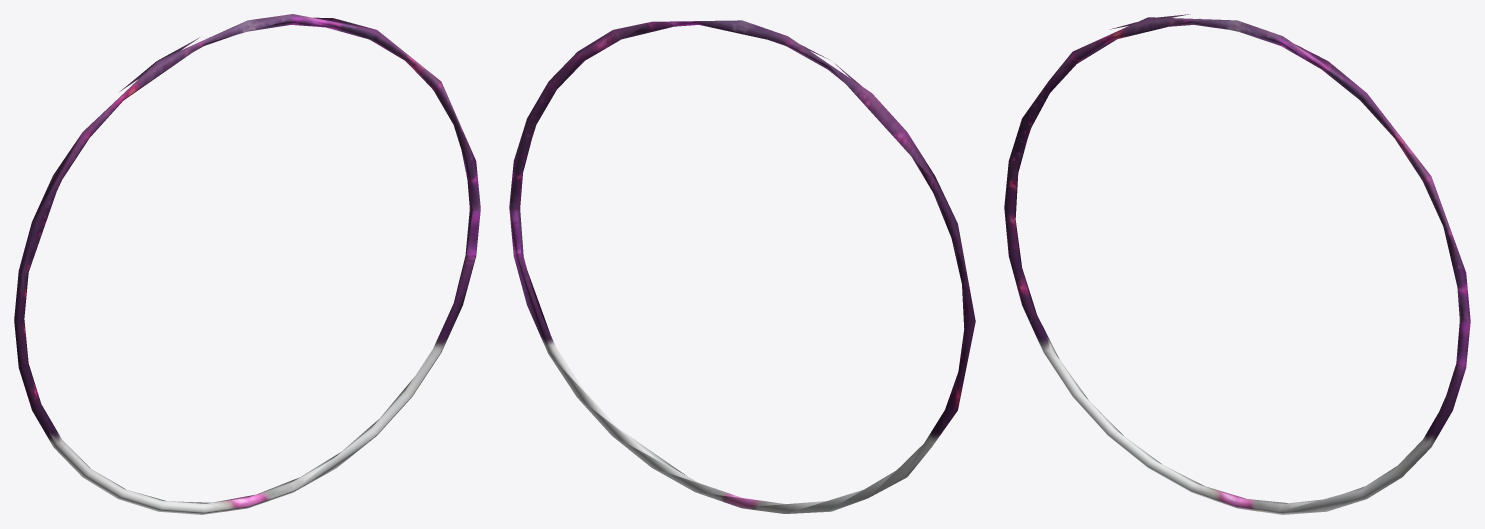
The model's file is crown-halo-texture-wrap-2026-05-14T23-31-40-865Z.low.glb.
3 views of the same model, side by side, from view 1: azimuth 30°, elevation 25°; view 2: azimuth 150°, elevation 25°; view 3: azimuth 330°, elevation 25° (orthographic).
Parts seen in each view (by area): view 1: GLTF; view 2: GLTF; view 3: GLTF.
Part boxes in pixels (x1,y1,x2,y2): GLTF: (14, 14, 480, 514); GLTF: (509, 20, 975, 513); GLTF: (1004, 14, 1470, 514).
Bounding box in the file's own units: 84.59 × 84.59 × 1.84.
1 material, 1 textured.
